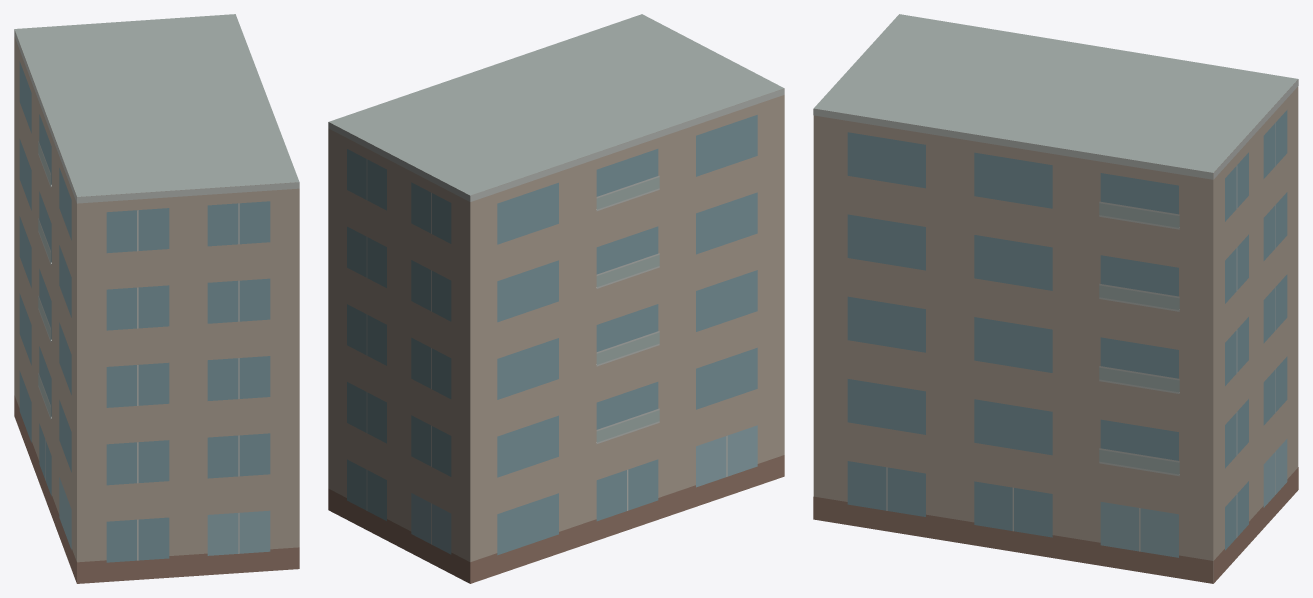
File: survey-upis-32979830.glb
The picture shows the model from 3 angles, left to right: view 1: azimuth 30°, elevation 25°; view 2: azimuth 150°, elevation 25°; view 3: azimuth 270°, elevation 25°; orthographic projection. The views are drawn at different scales.
Visible parts, largest first — view 1: survey-upis-32979830.tmp; view 2: survey-upis-32979830.tmp; view 3: survey-upis-32979830.tmp.
Part boxes in pixels (bbox=[...]): survey-upis-32979830.tmp: bbox=[14, 14, 299, 583]; survey-upis-32979830.tmp: bbox=[328, 14, 784, 583]; survey-upis-32979830.tmp: bbox=[813, 14, 1298, 583].
Size of the model in its own units: 12.03 by 14.5 by 15.52.
